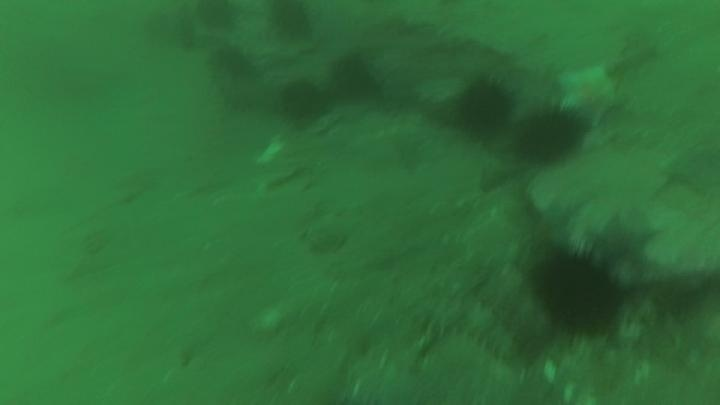echinus: (533, 250, 623, 338), (512, 105, 586, 166), (453, 75, 517, 139), (329, 52, 378, 102), (277, 78, 328, 125), (266, 1, 316, 45), (209, 43, 255, 82), (193, 1, 240, 33)
holothurian: (409, 294, 517, 361)
starfish: (586, 209, 662, 271), (554, 62, 624, 129), (524, 201, 575, 255)
